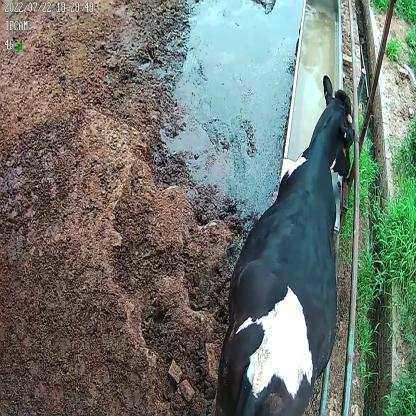cow: (213, 74, 356, 416)
